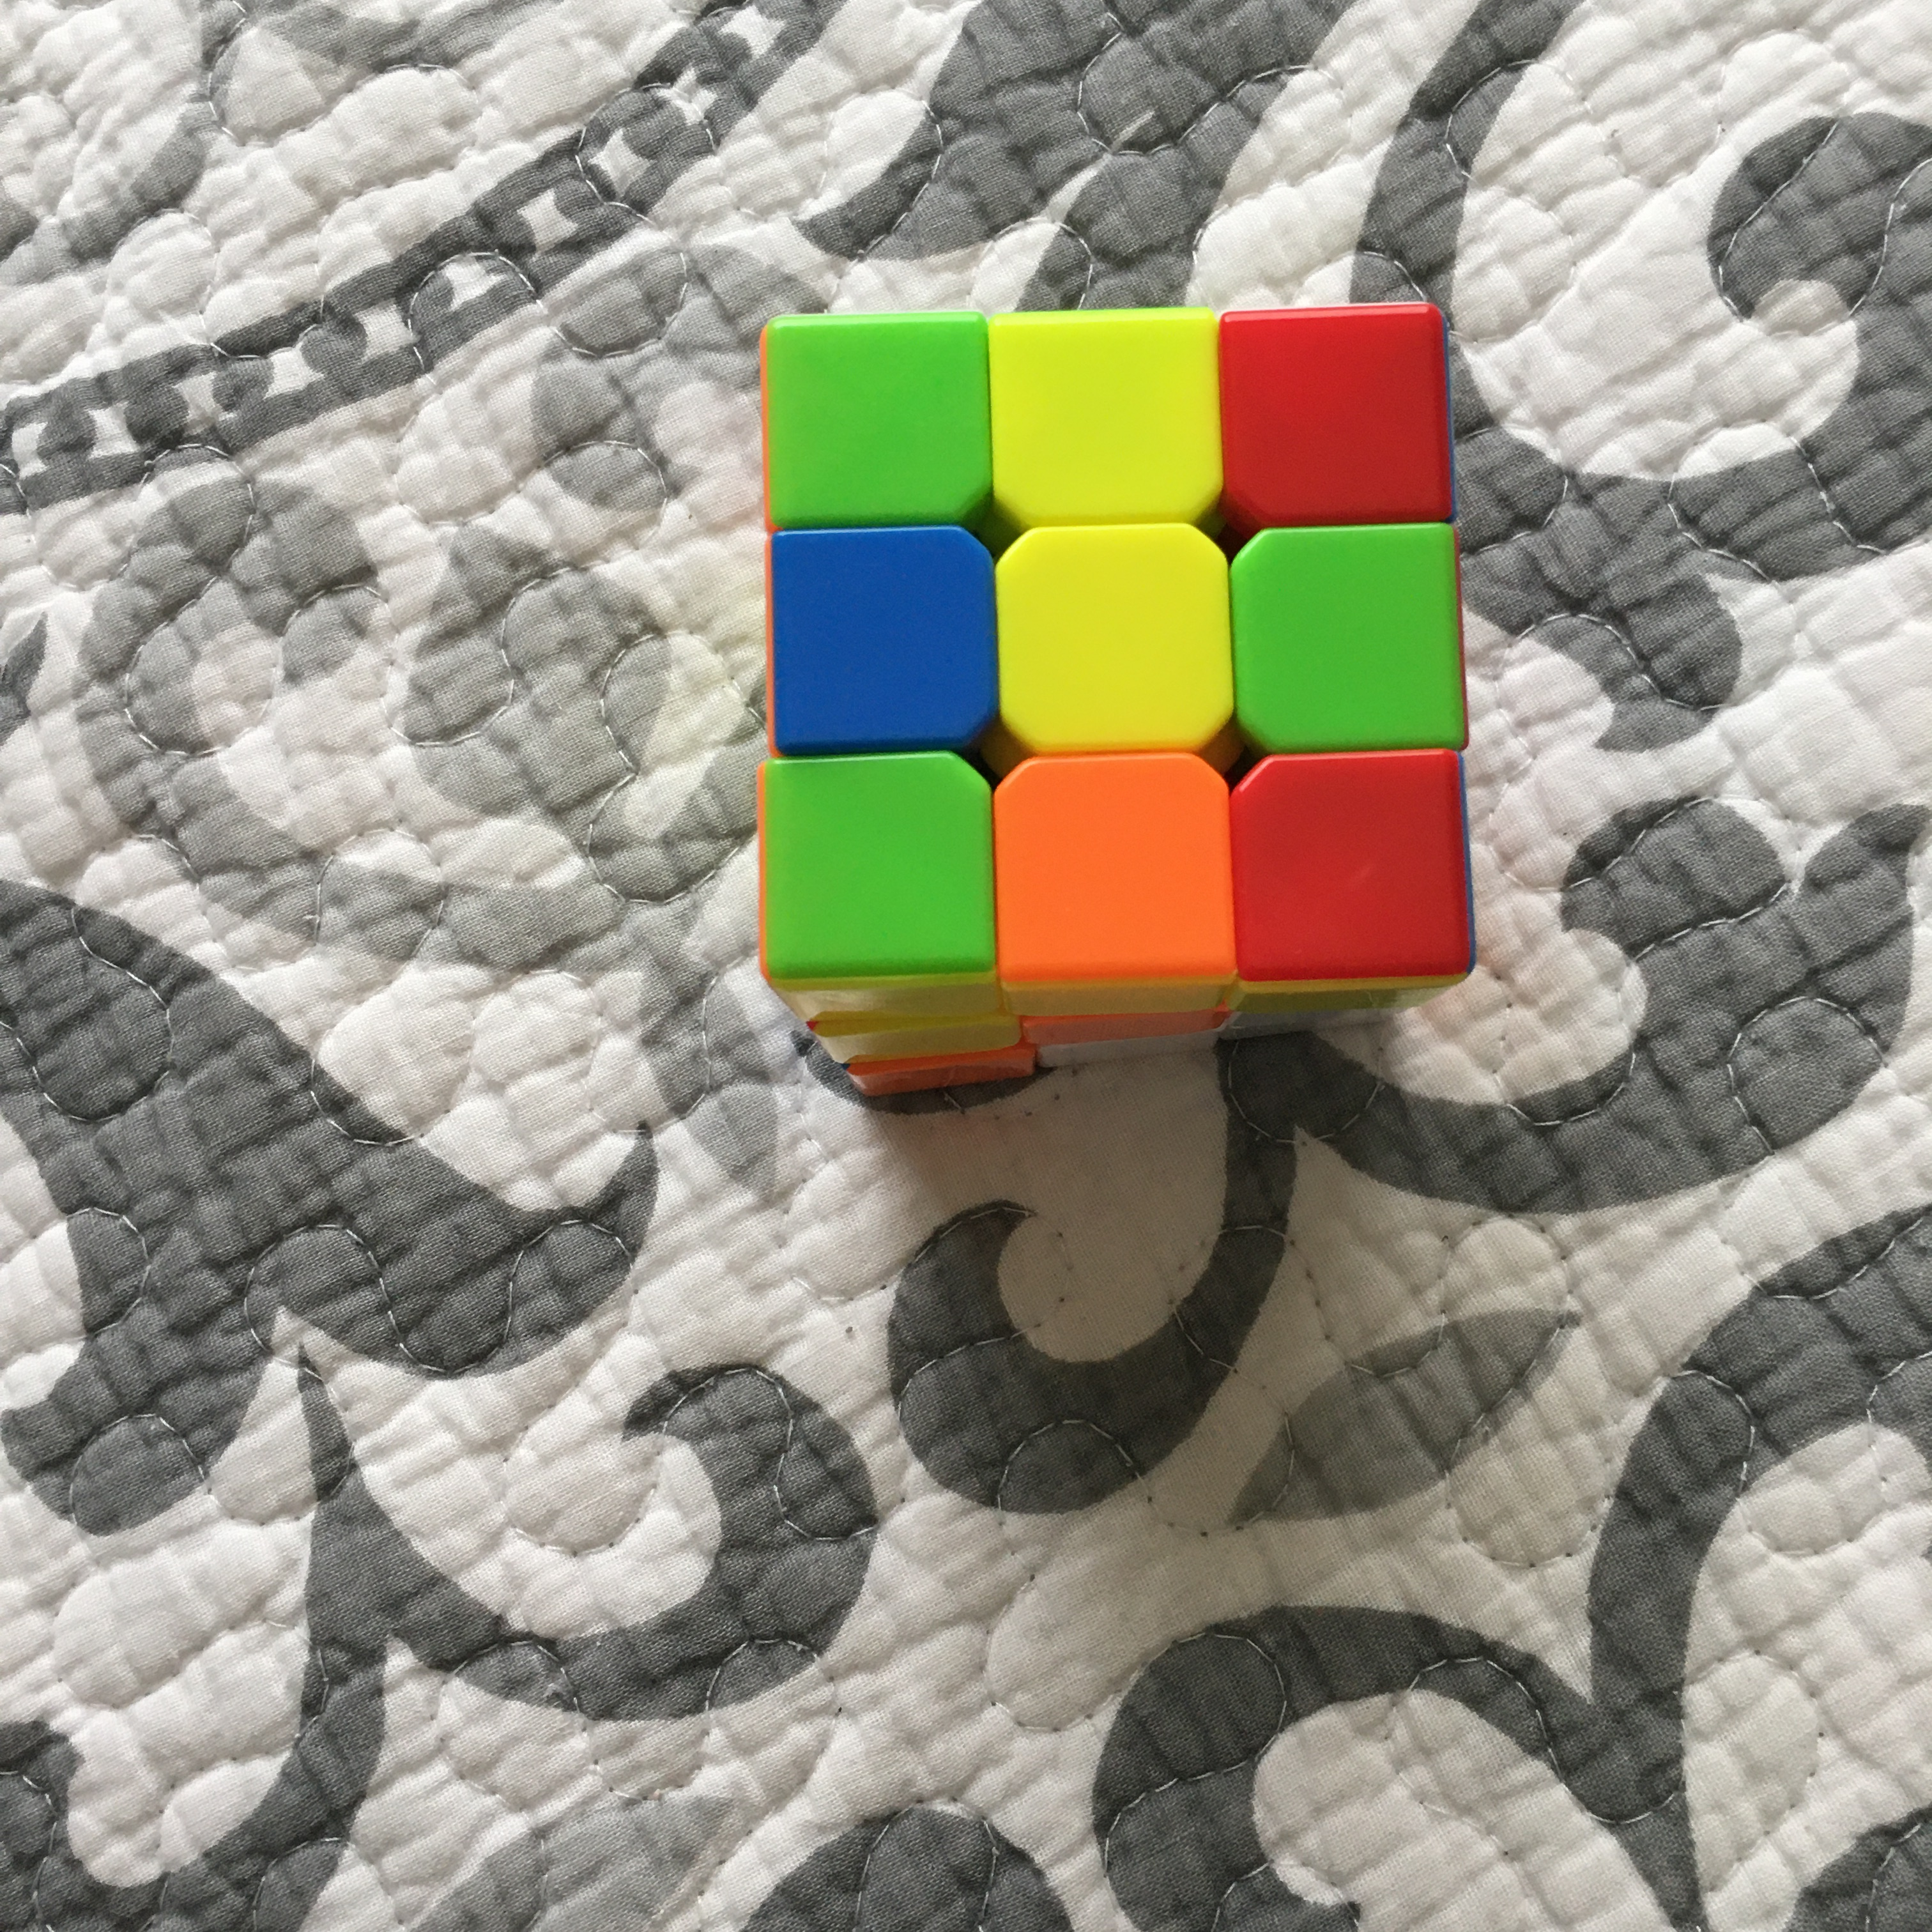face: (763, 309, 1477, 977)
